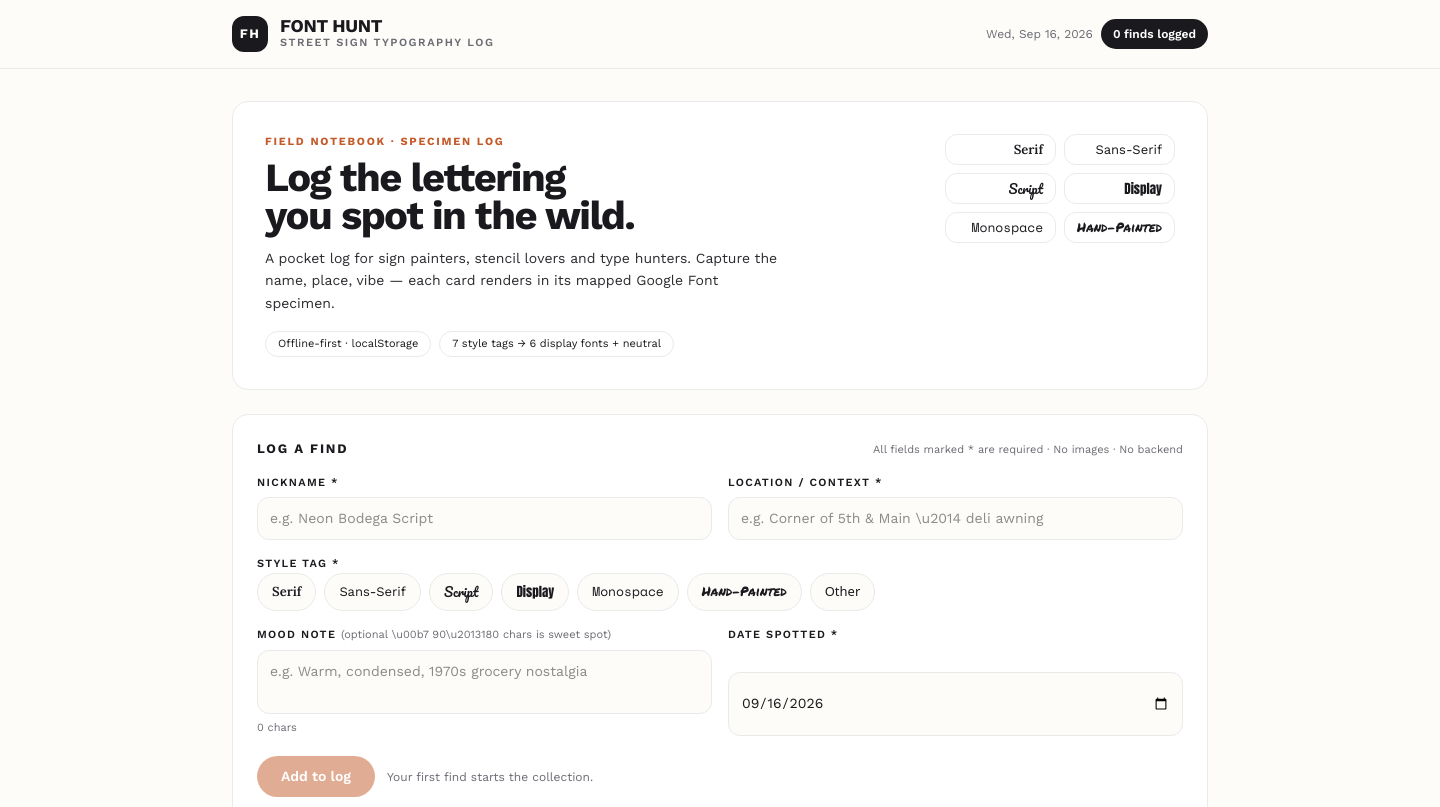
it: Font Hunt › validation blocks empty nickname/location
Click the button "Add to log".
click(316, 777)  # box [257,756,375,797]
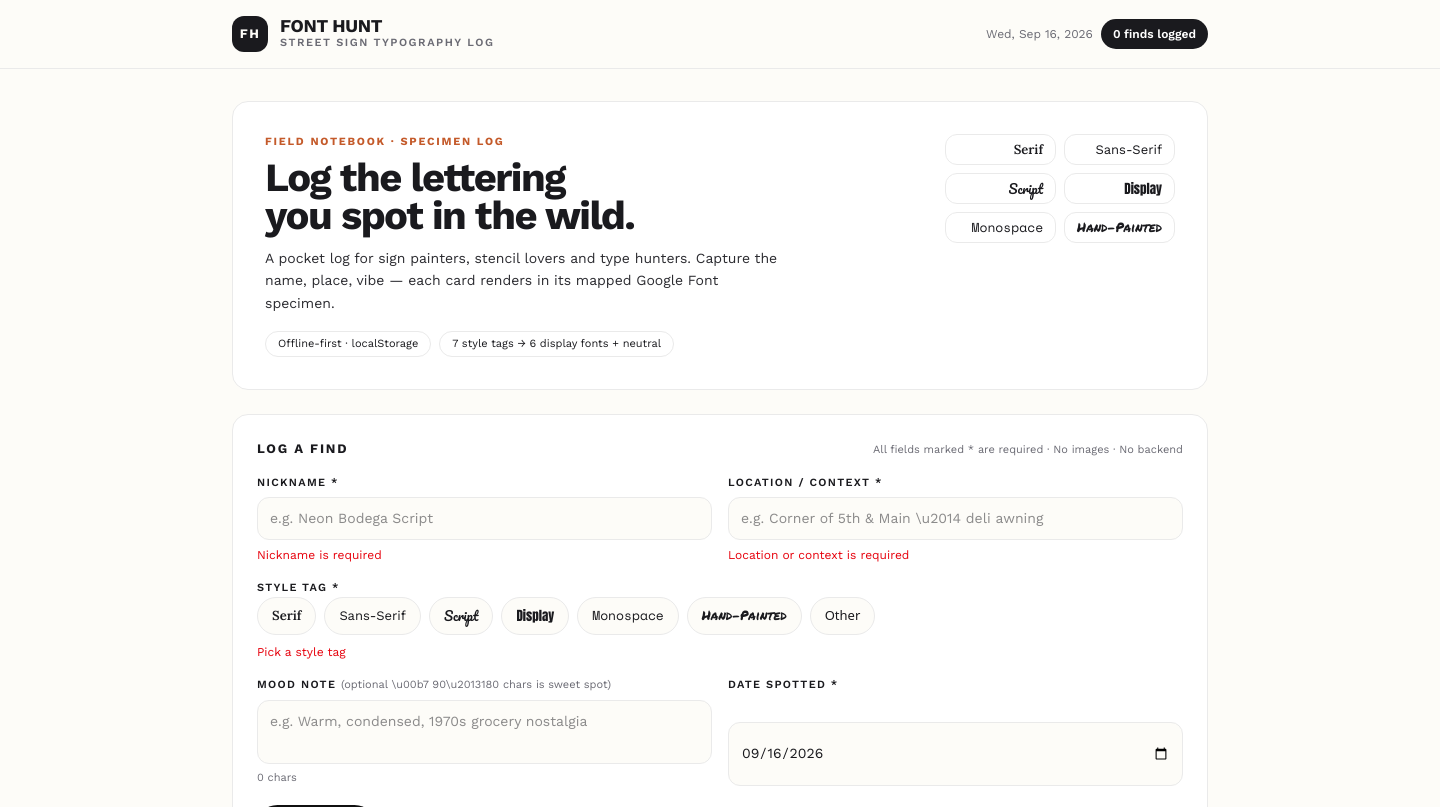
Expected: the text "Nickname is required" is shown, [257,548,382,562]
Expected: the text "Location or context is required" is shown, [728,548,909,562]
